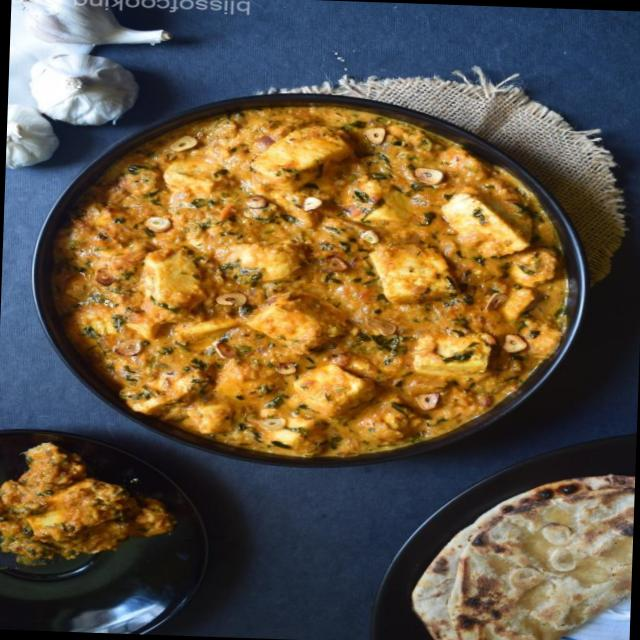roti: (459, 481, 634, 640)
